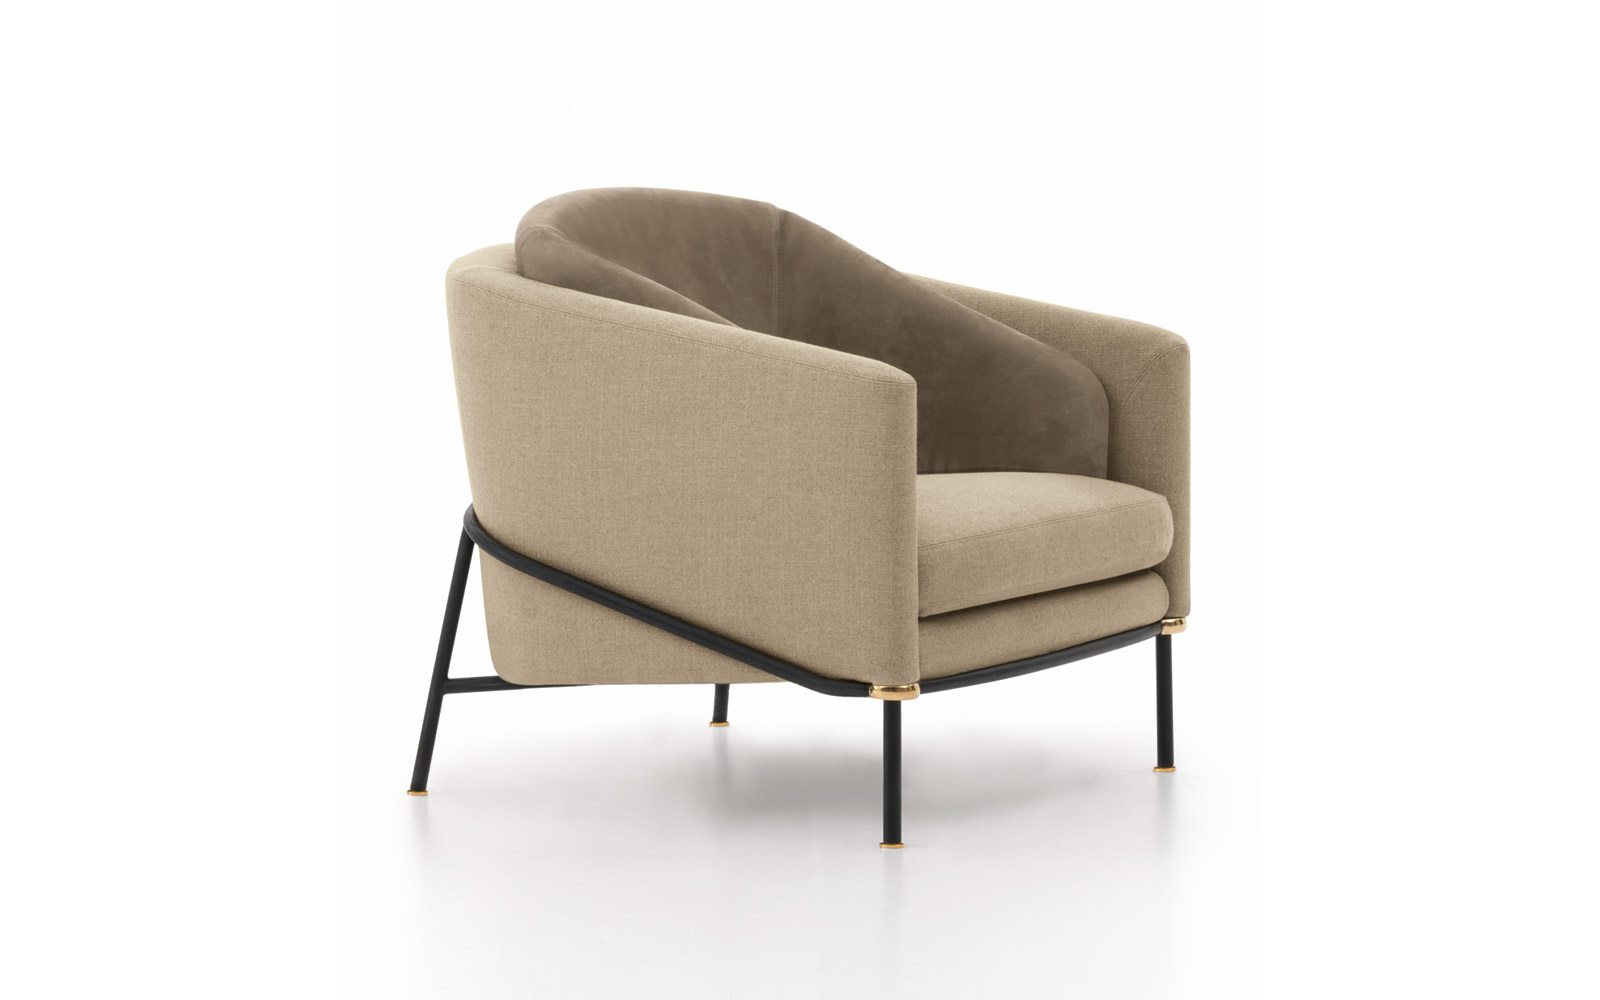chairs: (402, 181, 1196, 844)
